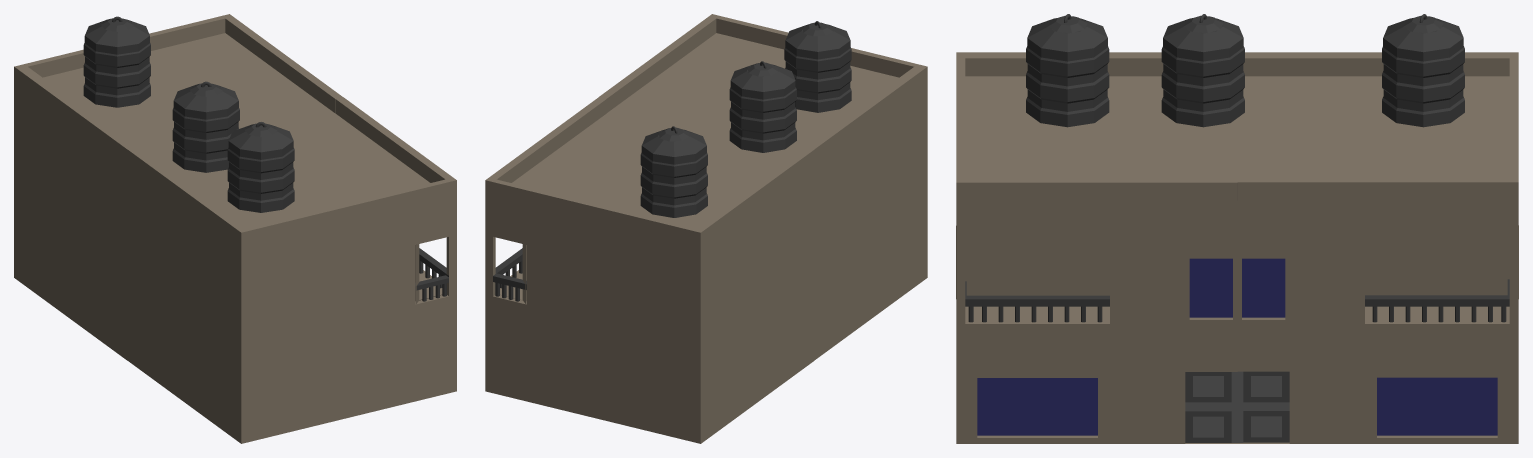
Rendered from hose2.fbx.
3 views of the same model, side by side, from view 1: azimuth 30°, elevation 25°; view 2: azimuth 150°, elevation 25°; view 3: azimuth 270°, elevation 25° (orthographic). The views are drawn at different scales.
Parts seen in each view (by area): view 1: polySurface2, polySurface17, pCylinder4, pCylinder1, pCylinder3; view 2: polySurface17, polySurface2, pCylinder3, pCylinder4, pCylinder1; view 3: polySurface17, polySurface2, pCylinder1, pCylinder3, pCylinder4, polySurface18, polySurface3, pTorus3, pTorus4, pTorus2.
Part boxes in pixels (<box>): polySurface2: <box>127,97,456,443</box>; polySurface17: <box>14,14,342,360</box>; pCylinder4: <box>83,20,150,107</box>; pCylinder1: <box>227,125,294,212</box>; pCylinder3: <box>172,85,239,172</box>; polySurface17: <box>485,97,814,443</box>; polySurface2: <box>599,14,927,360</box>; pCylinder3: <box>729,64,796,152</box>; pCylinder4: <box>640,129,707,217</box>; pCylinder1: <box>784,24,851,112</box>; polySurface17: <box>1237,52,1518,443</box>; polySurface2: <box>956,52,1243,443</box>; pCylinder1: <box>1026,18,1109,127</box>; pCylinder3: <box>1161,18,1244,127</box>; pCylinder4: <box>1382,18,1464,127</box>; polySurface18: <box>1365,295,1509,306</box>; polySurface3: <box>965,295,1109,306</box>; pTorus3: <box>1183,14,1222,33</box>; pTorus4: <box>1403,14,1443,33</box>; pTorus2: <box>1048,14,1087,33</box>.
Size of the model in its own units: 6.12 by 7.42 by 11.18.
